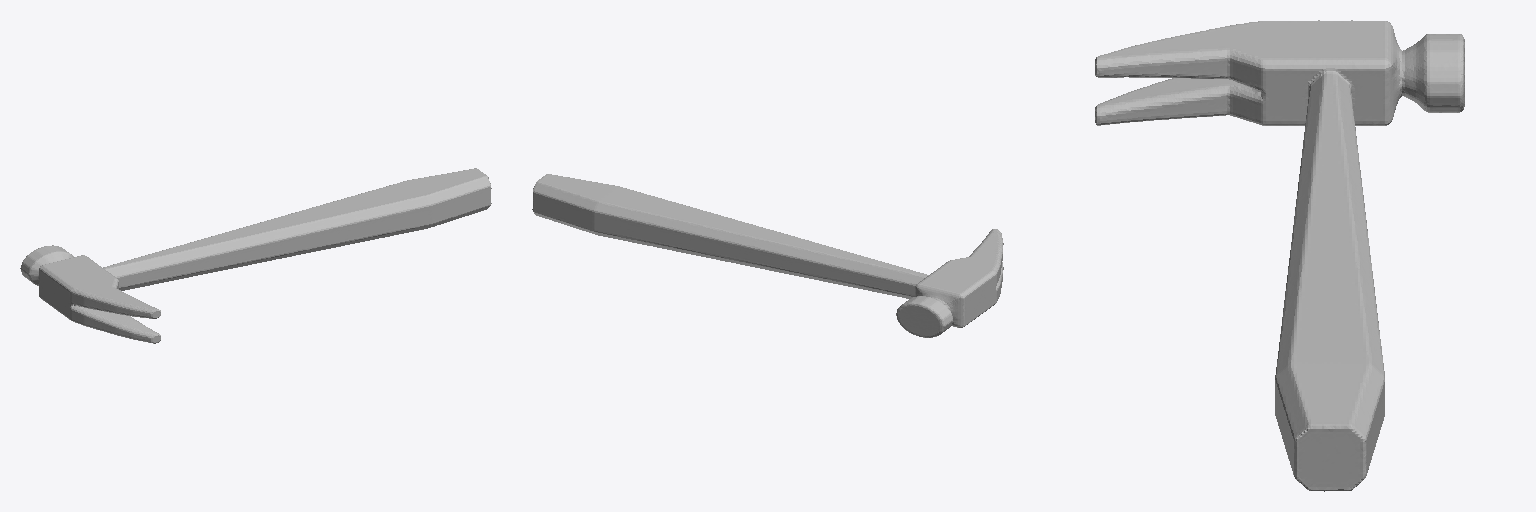
The robot description file, URDF, robot "root":
<robot name="root">
  <link name="link_001">
    <visual>
      <origin xyz="0 0 0" rpy="0 0 0"/>
      <geometry>
        <mesh filename="hammer.obj" scale="1.5000E+00 1.0000E+00 1.0000E+00"/>
      </geometry>
      <material name="">
        <color rgba="7.50E-01 7.50E-01 7.50E-01 1"/>
      </material>
    </visual>
    <collision>
      <origin xyz="0 0 0" rpy="0 0 0"/>
      <geometry>
        <mesh filename="hammer.obj" scale="1.5000E+00 1.0000E+00 1.0000E+00"/>
      </geometry>
    </collision>
    <inertial>
      <mass value="0.16"/> <!-- 质量：0.1kg -->
    </inertial>
  </link>
</robot>

--- What the picture shows (computed from the rendered views, not written in the file) ---
3 views of the same robot in one strip: view 1: azimuth 30°, elevation 25°; view 2: azimuth 150°, elevation 25°; view 3: azimuth 270°, elevation 25° (orthographic).
Model root with 1 links and 0 joints (none), rooted at link_001, posed all joints at 0.
Links seen in each view (by area): view 1: link_001; view 2: link_001; view 3: link_001.
Link boxes in pixels (<box>): link_001: <box>20,168,491,343</box>; link_001: <box>532,174,1003,337</box>; link_001: <box>1095,20,1464,491</box>.
Size in the robot's own frame: 0.3075 by 0.1172 by 0.0232 metres.
1 mesh visuals loaded from 1 distinct referenced files (1 OBJ).
